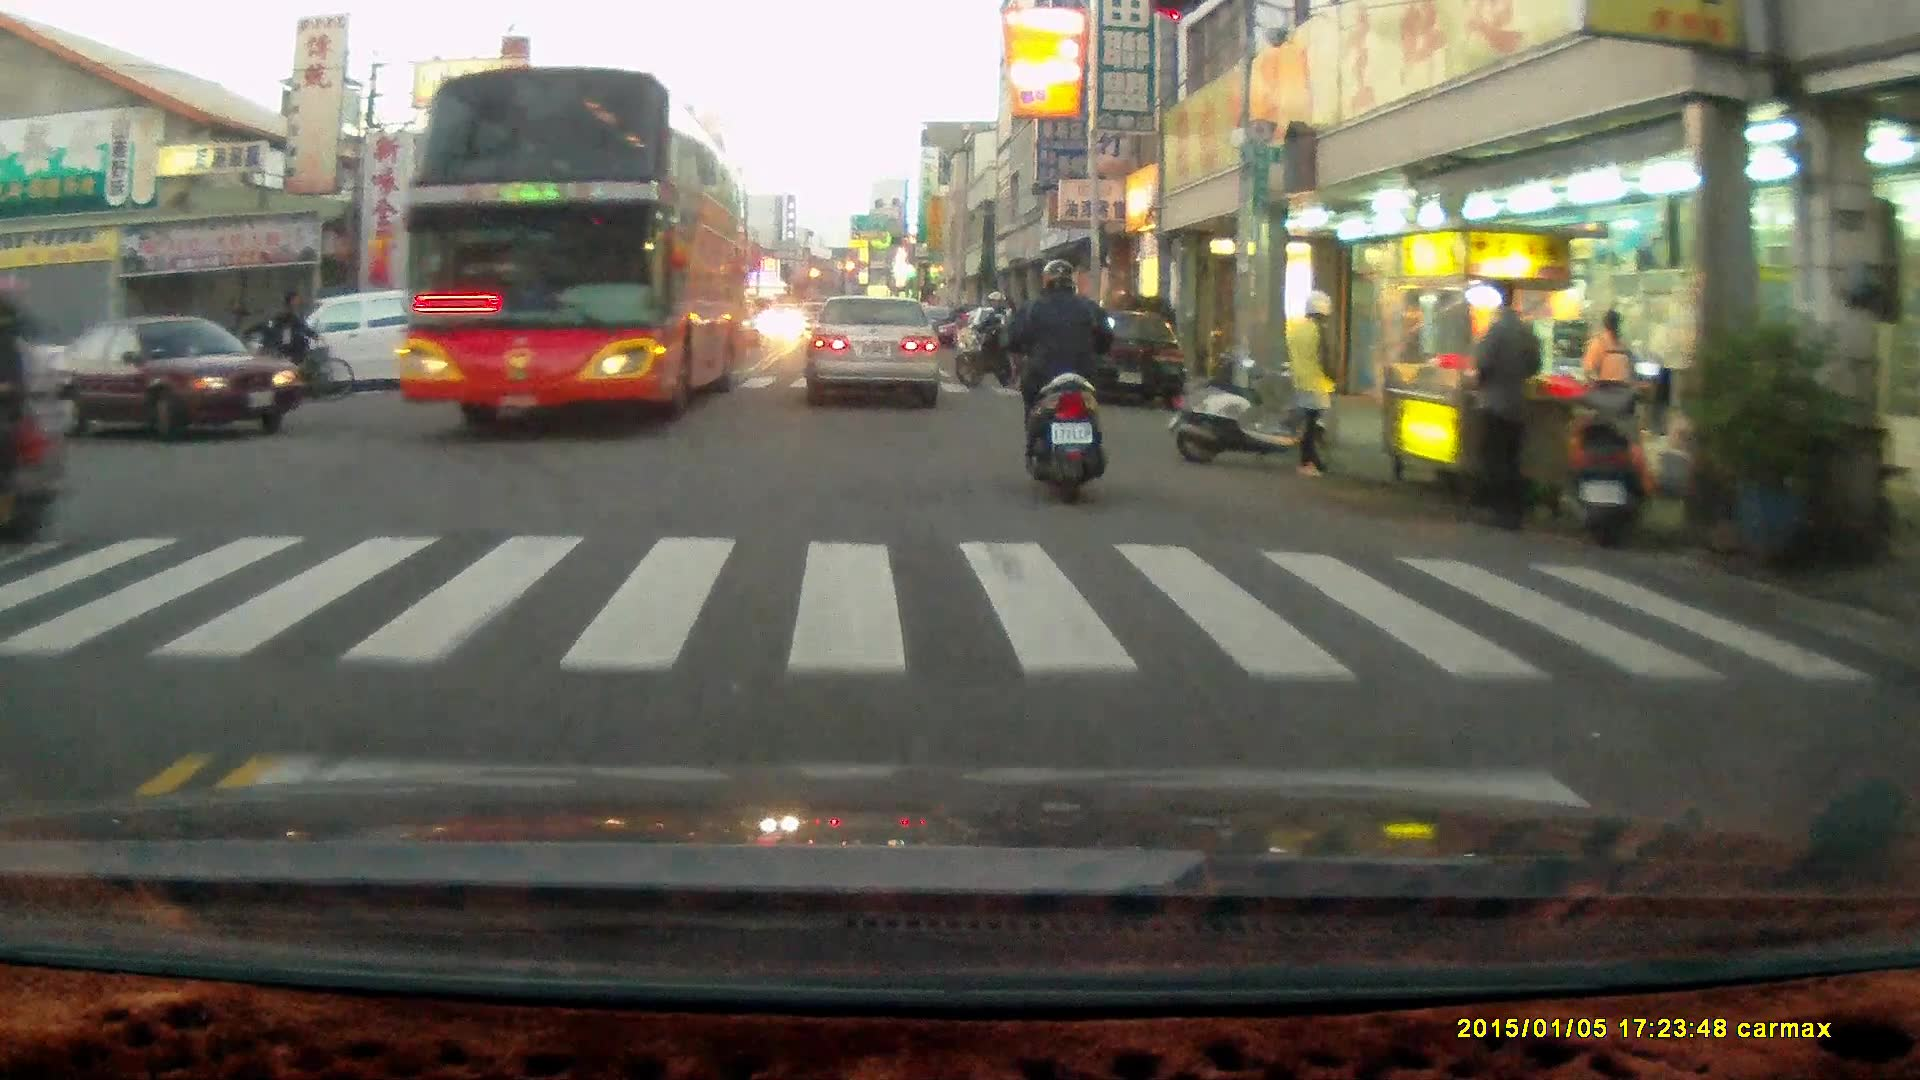pedestrian: (1474, 275, 1543, 530), (1580, 306, 1640, 493), (1285, 287, 1340, 474)
rider: (1001, 247, 1117, 495), (0, 273, 68, 552), (246, 287, 350, 402), (952, 288, 1021, 390)
vehicle: (396, 61, 754, 428), (40, 311, 299, 438), (290, 294, 449, 398), (805, 294, 946, 405), (1050, 304, 1188, 410)
